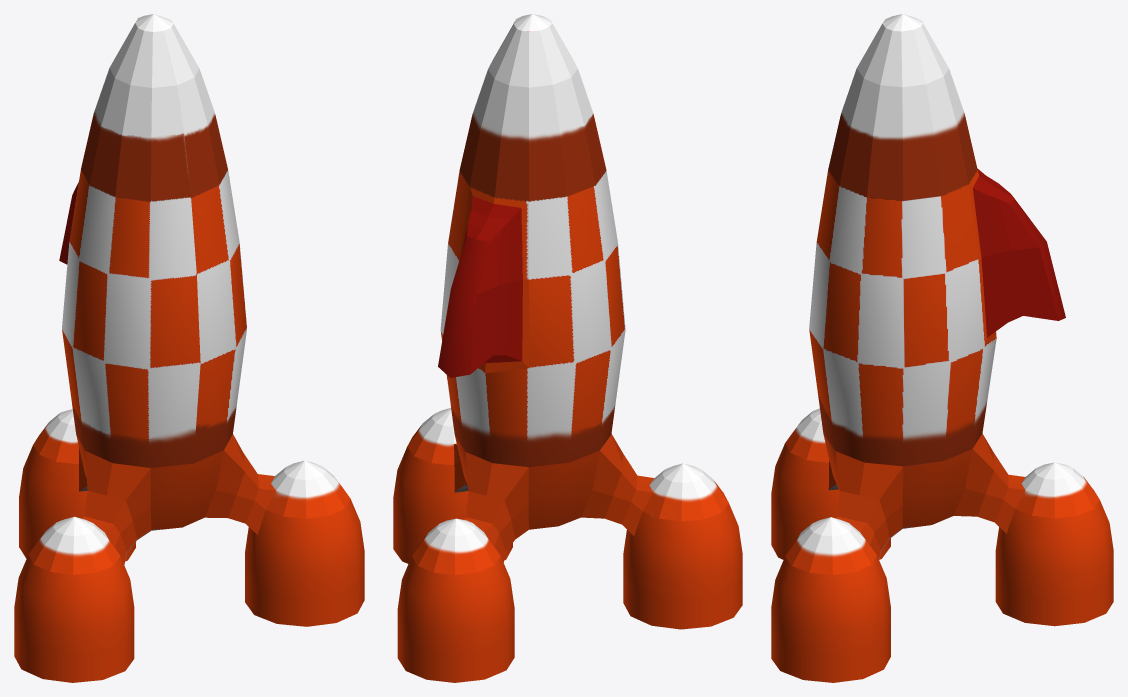
The model's file is mesh_rocket.FBX.
3 renders of one model, left to right at view 1: azimuth 30°, elevation 25°; view 2: azimuth 150°, elevation 25°; view 3: azimuth 270°, elevation 25°, orthographic.
Visible parts, largest first — view 1: Cylinder001; view 2: Cylinder001; view 3: Cylinder001.
Part boxes in pixels (x1,y1,x2,y2): Cylinder001: (14, 14, 364, 682); Cylinder001: (393, 14, 742, 682); Cylinder001: (771, 14, 1113, 682).
Size of the model in its own units: 21.64 by 36.48 by 19.27.
